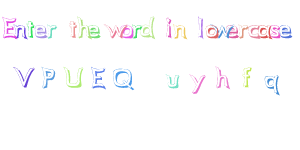E: (87, 64, 110, 92), (1, 12, 14, 41)
P: (39, 64, 57, 91)
Q: (112, 63, 141, 96)
U: (62, 65, 86, 89)
V: (11, 58, 36, 91)
a: (259, 21, 271, 44)
c: (247, 19, 261, 45)
d: (142, 13, 156, 42)
e: (278, 20, 295, 43), (226, 21, 241, 44), (89, 18, 102, 42), (34, 20, 46, 41)
f: (236, 65, 255, 92)
h: (212, 61, 233, 93), (79, 17, 90, 43)
i: (163, 14, 173, 44)
l: (195, 14, 205, 40)
n: (174, 22, 190, 42), (14, 23, 28, 41)
o: (121, 21, 133, 44), (206, 23, 218, 43)
q: (261, 69, 285, 98)
r: (45, 21, 60, 40), (238, 19, 248, 42), (132, 23, 142, 44)
s: (269, 20, 282, 42)
t: (25, 17, 37, 44), (67, 18, 79, 40)
u: (161, 69, 184, 92)
w: (105, 21, 124, 43), (217, 20, 230, 41)
y: (188, 73, 208, 96)
